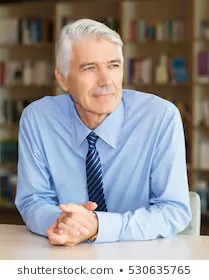F_shirt: (13, 89, 197, 236)
F_tie: (81, 130, 110, 211)
